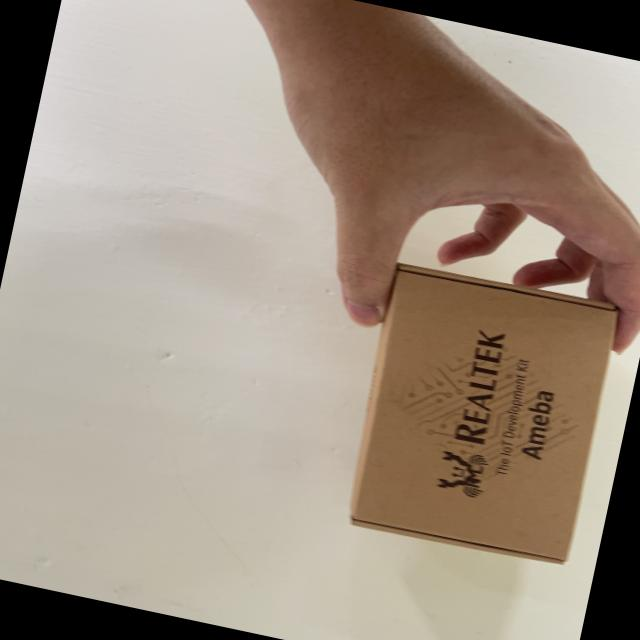box: (330, 245, 640, 587)
